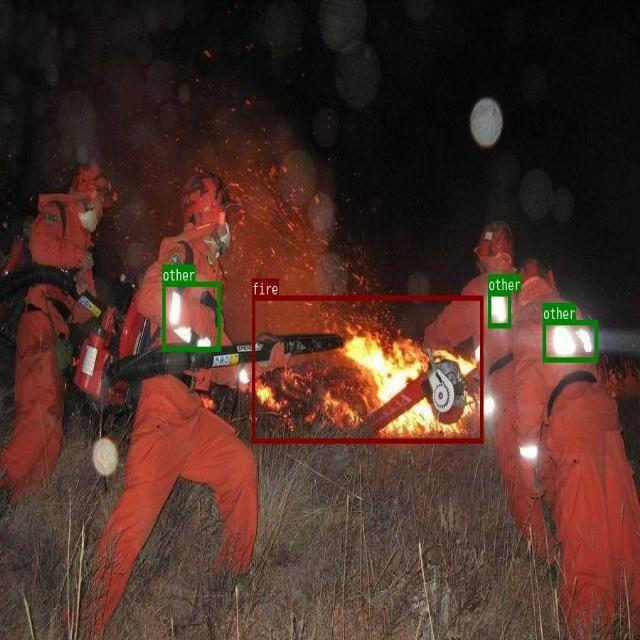fire: (251, 295, 483, 442)
